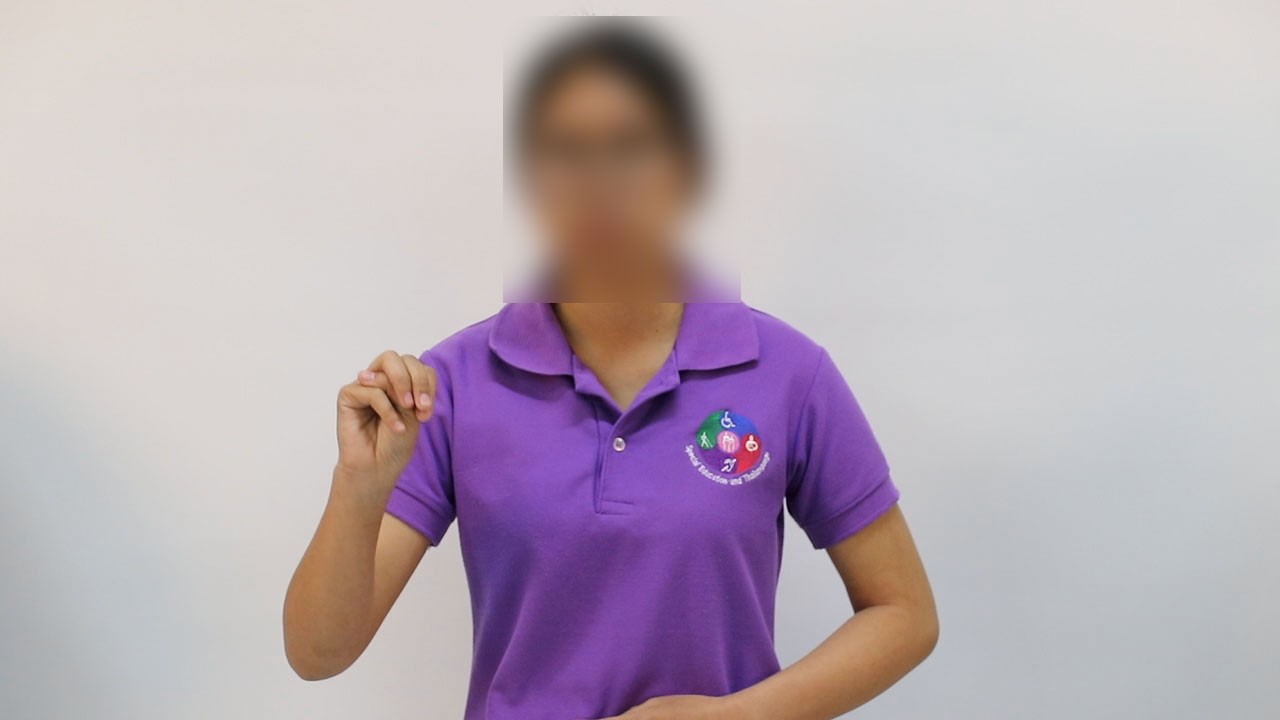mor: (316, 330, 447, 485)
